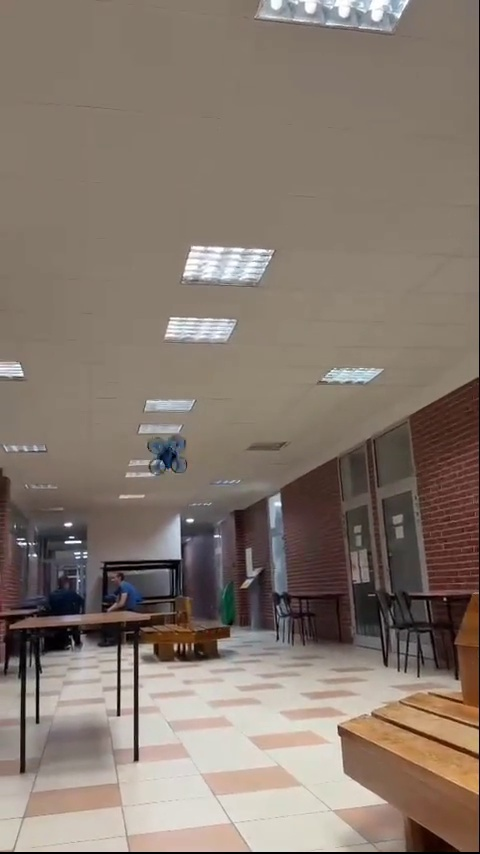drone: (146, 435, 189, 477)
no vest: (47, 576, 87, 618), (107, 571, 140, 608)
